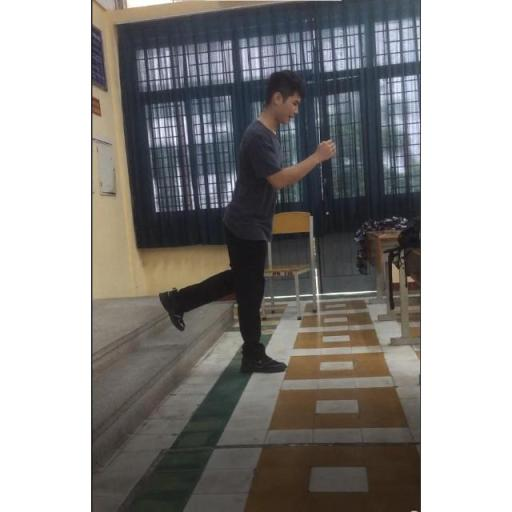Running: (154, 62, 334, 376)
